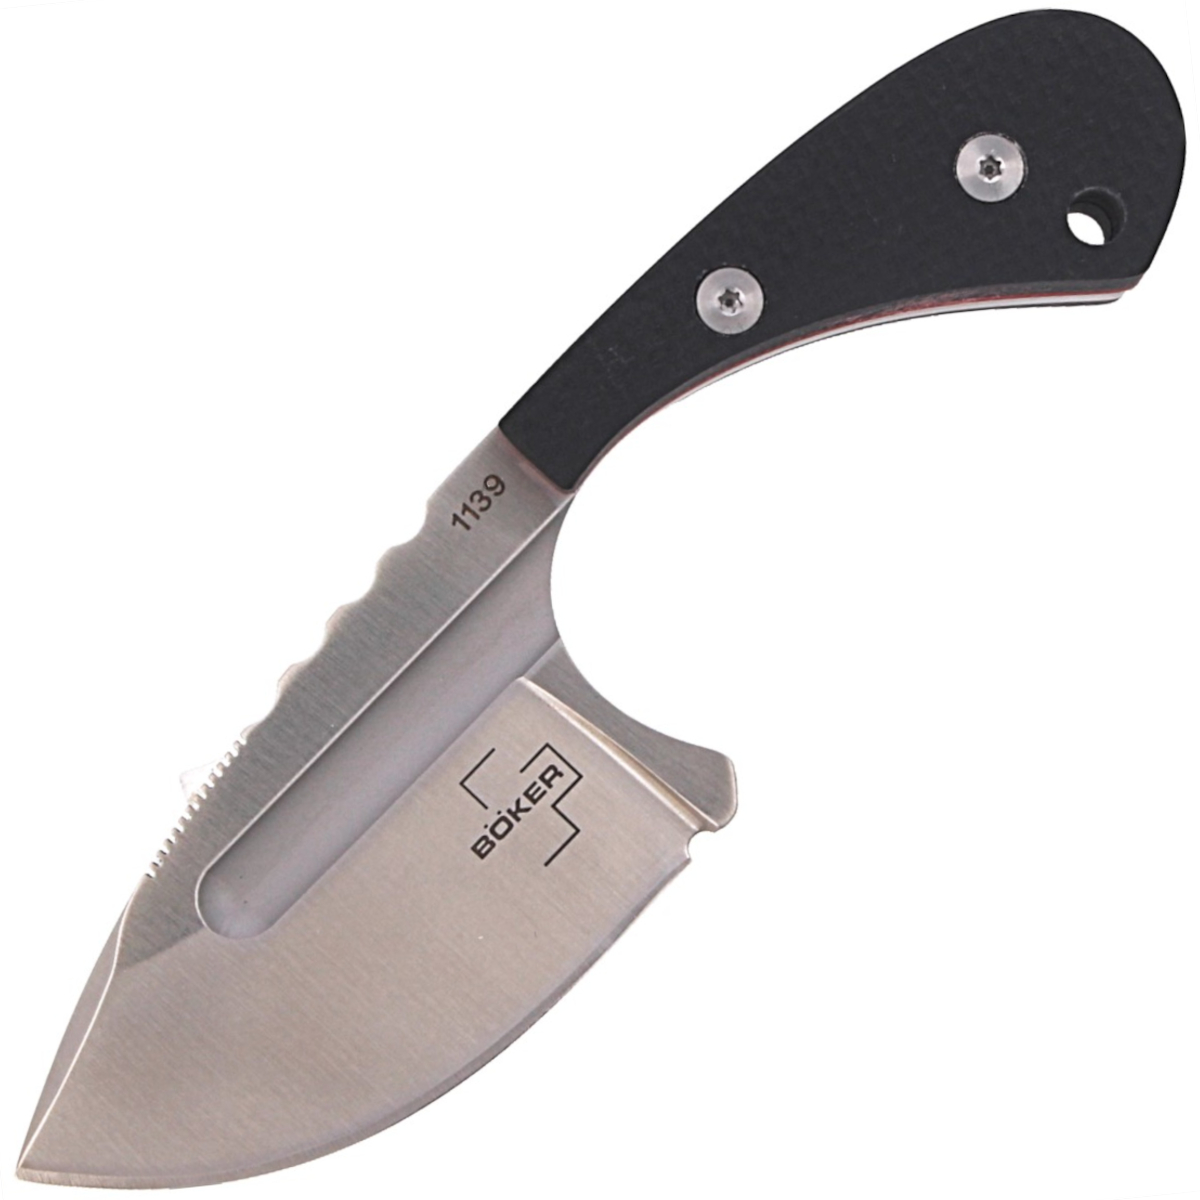knife: (3, 20, 1177, 1171)
